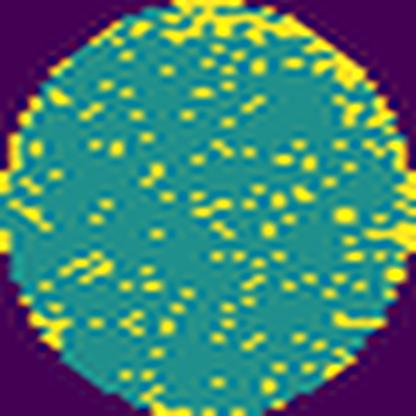Edge-Loc: (159, 0, 382, 93), (359, 168, 415, 251)
